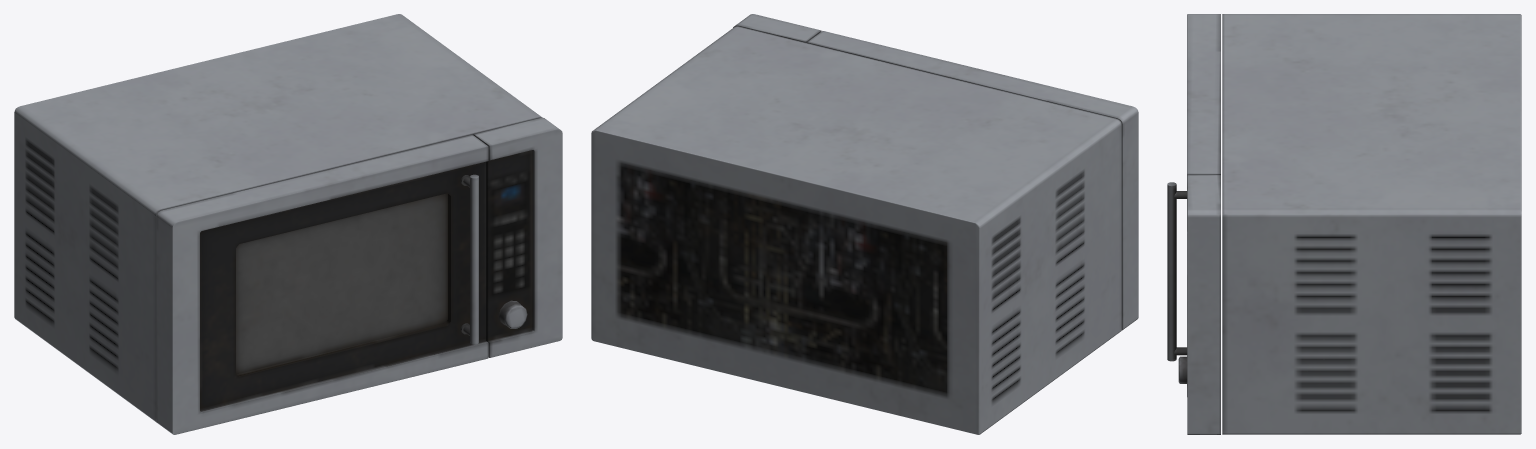
Rendered from Microwave_Oven_02.fbx.
The picture shows the model from 3 angles, left to right: view 1: azimuth 30°, elevation 25°; view 2: azimuth 150°, elevation 25°; view 3: azimuth 270°, elevation 25°; orthographic projection. The views are drawn at different scales.
Parts seen in each view (by area): view 1: Microwave_Oven; view 2: Microwave_Oven; view 3: Microwave_Oven.
Boxes of the visible parts, bbox=[...] form: Microwave_Oven: bbox=[14, 14, 562, 434]; Microwave_Oven: bbox=[591, 14, 1138, 434]; Microwave_Oven: bbox=[1167, 14, 1521, 434].
Size of the model in its own units: 38.34 by 19.93 by 28.63.
